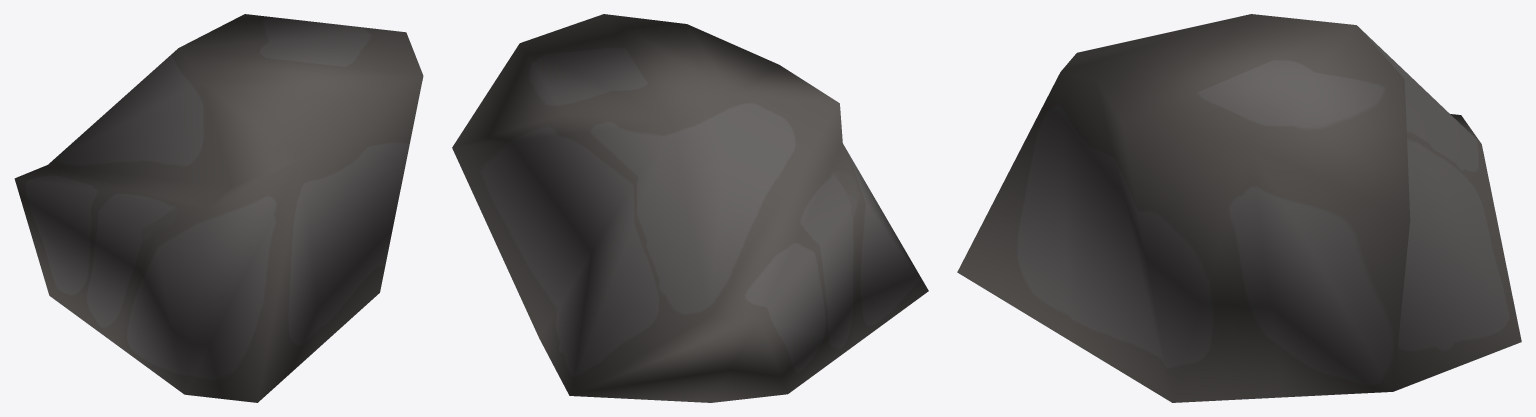
File: rocks1.fbx
3 renders of one model, left to right at view 1: azimuth 30°, elevation 25°; view 2: azimuth 150°, elevation 25°; view 3: azimuth 270°, elevation 25°, orthographic. The views are drawn at different scales.
Visible parts, largest first — view 1: rocks1; view 2: rocks1; view 3: rocks1.
Boxes of the visible parts, <box> form: rocks1: <box>14,14,423,402</box>; rocks1: <box>452,14,928,402</box>; rocks1: <box>957,14,1521,402</box>.
Bounding box in the file's own units: 425 × 290 × 505.
1 material, 1 textured.
